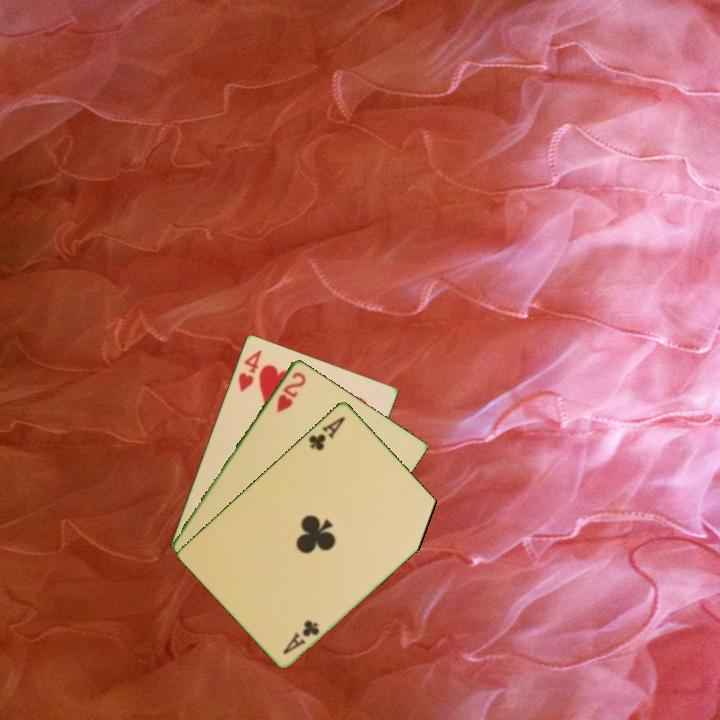2h: (273, 368, 309, 416)
4h: (234, 346, 264, 395)
Ac: (305, 412, 348, 453), (279, 616, 322, 657)
